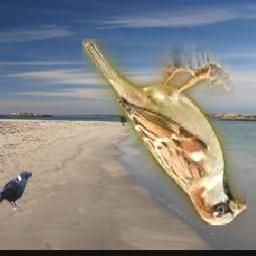Crow: (0, 172, 32, 212)
Sparrow: (82, 39, 246, 225)
